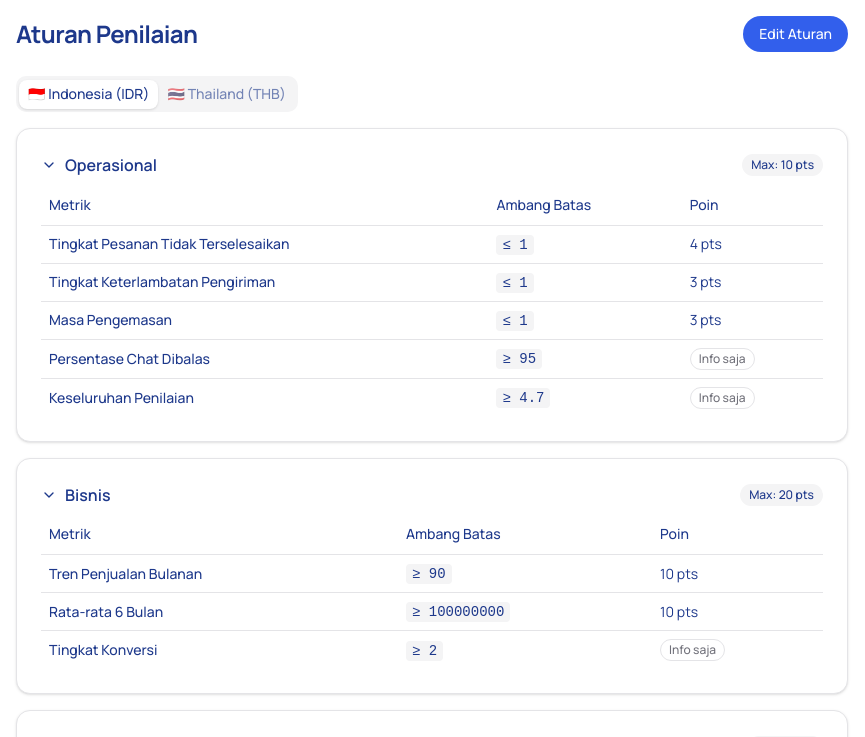
it: Marketplace tabs › cancels edit mode when marketplace tab changes
// Enter edit mode
Click the button "Edit Aturan" at (796, 34), box [743,16,848,52]
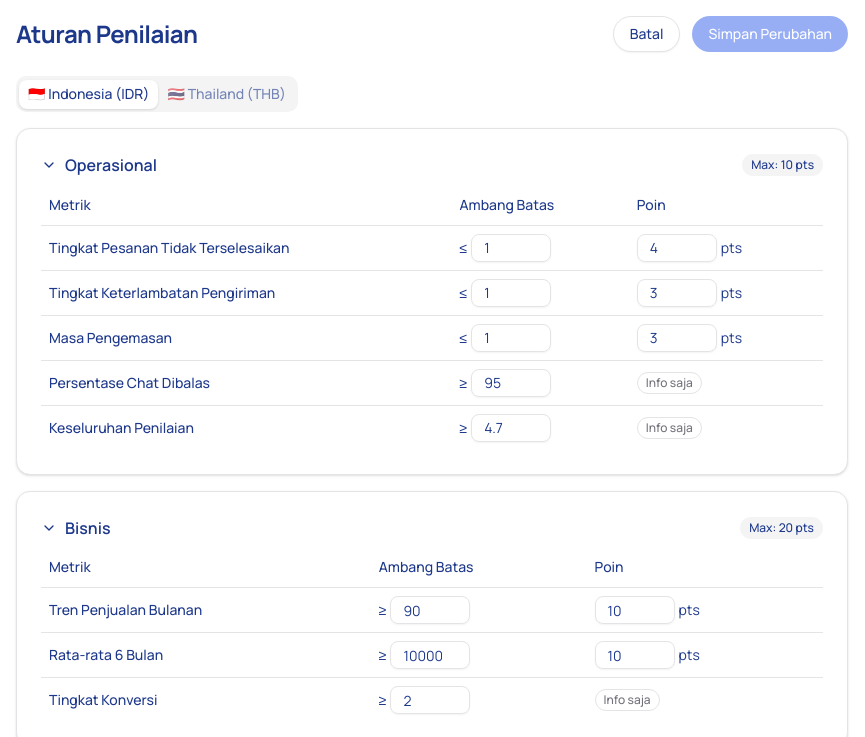
Check: the button "Batal" is shown, box [613,16,680,52]
// Switch marketplace
Click the tab "🇹🇭 Thailand (THB)" at (227, 94), box [158,80,295,108]
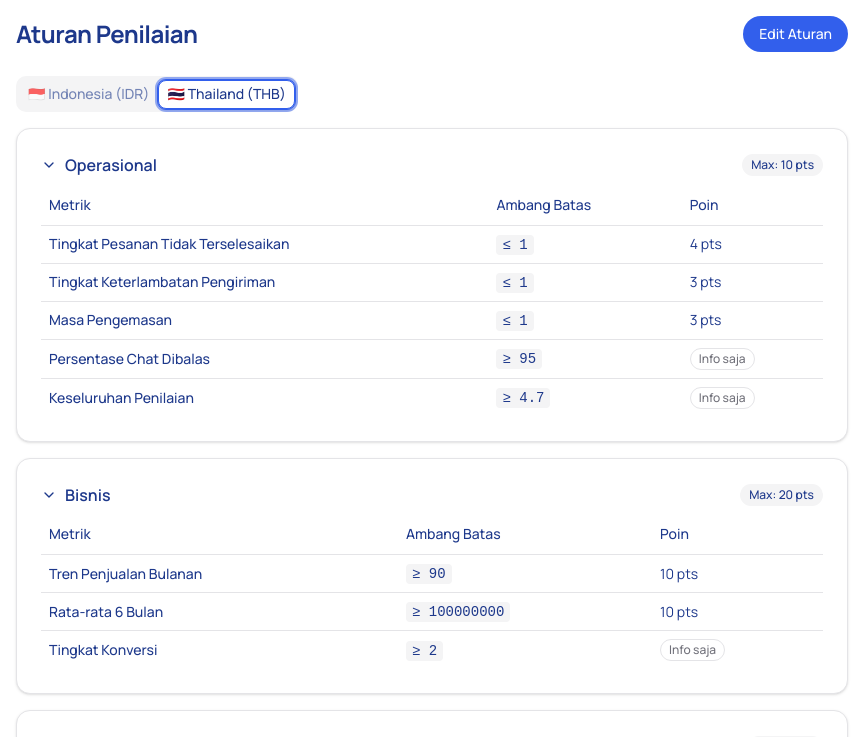
Check: the button "Edit Aturan" is shown, box [743,16,848,52]
Check: the button "Batal" is gone
